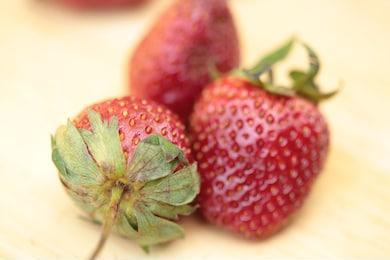Fresa: (182, 68, 336, 247), (53, 93, 202, 245)
